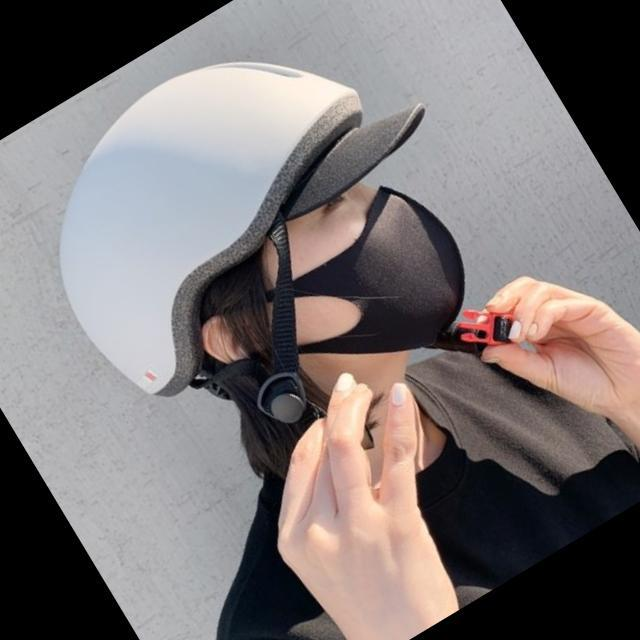WITH_HELMET: (0, 0, 520, 441)
